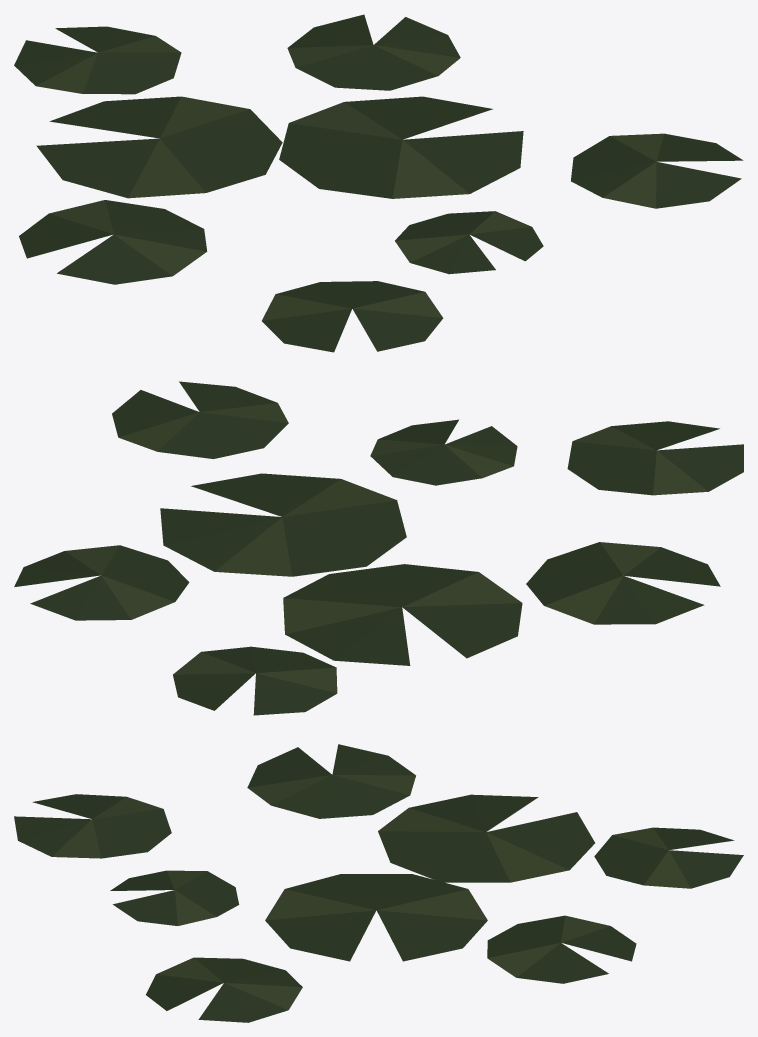
3 views of the same model, one above another, from view 1: azimuth 30°, elevation 25°; view 2: azimuth 150°, elevation 25°; view 3: azimuth 270°, elevation 25° (orthographic). The views are drawn at different scales.
Parts seen in each view (by area): view 1: Notched floating lily; view 2: Notched floating lily; view 3: Notched floating lily.
Boxes of the visible parts, x1,y1,x2,y2 form: Notched floating lily: [14, 14, 743, 352]; Notched floating lily: [14, 381, 743, 715]; Notched floating lily: [14, 744, 743, 1022].
Bounding box in the file's own units: 2.5 × 0.035 × 2.79.
